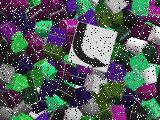Left: (67, 21, 117, 73)
